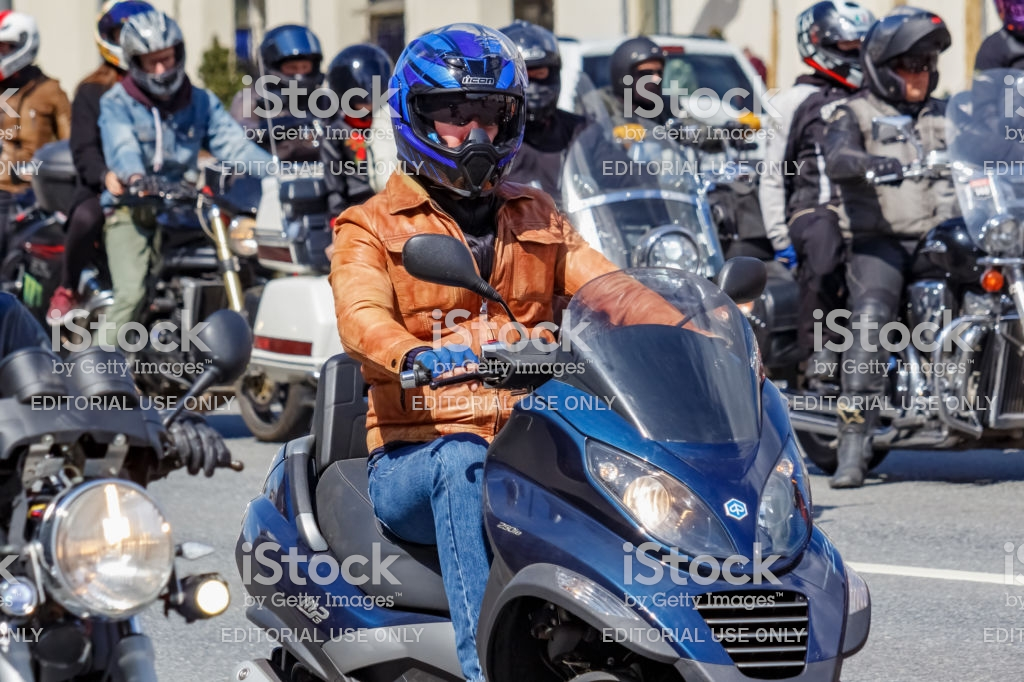helmet: (390, 26, 527, 201), (112, 14, 201, 102), (869, 14, 948, 104), (795, 8, 873, 86)
